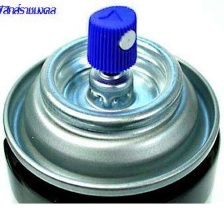aerosol_cans: (1, 1, 222, 223)
